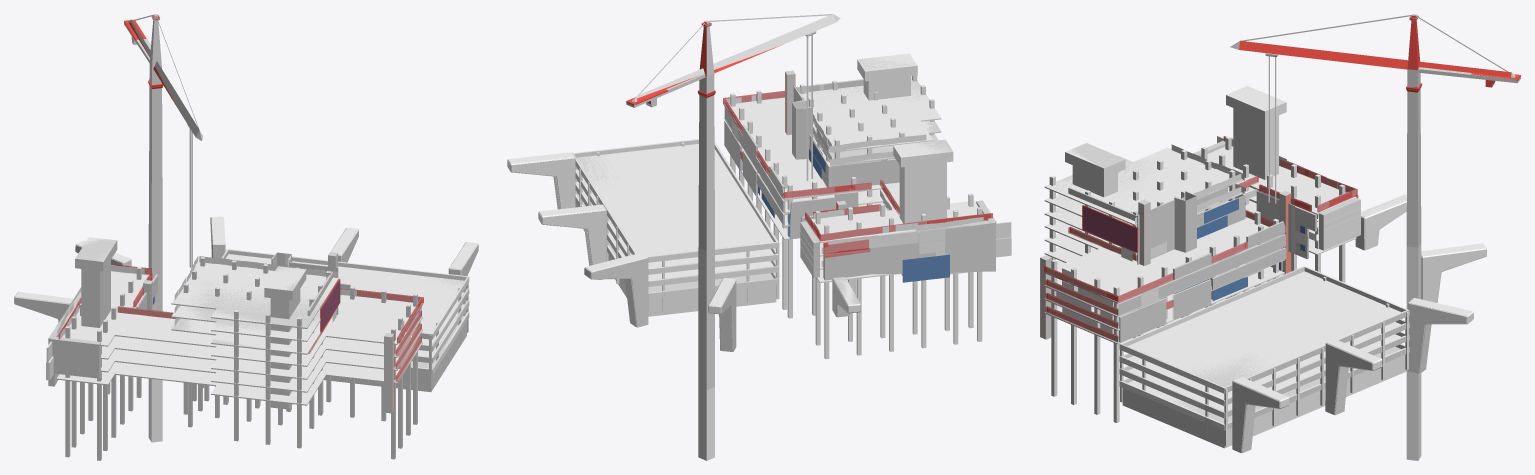
The model's file is city_constructionsite.dae.
3 views of the same model, side by side, from view 1: azimuth 30°, elevation 25°; view 2: azimuth 150°, elevation 25°; view 3: azimuth 270°, elevation 25° (orthographic). The views are drawn at different scales.
Parts seen in each view (by area): view 1: city_constructionsite_L841, Colmesh_city_constructionsite-1, city_constructionsite_L420; view 2: city_constructionsite_L841, Colmesh_city_constructionsite-1, city_constructionsite_L420, city_constructionsite_L200; view 3: city_constructionsite_L841, Colmesh_city_constructionsite-1, city_constructionsite_L420, city_constructionsite_L200.
Part boxes in pixels (x1,y1,x2,y2): city_constructionsite_L841: (15, 14, 477, 442); Colmesh_city_constructionsite-1: (14, 14, 478, 460); city_constructionsite_L420: (32, 81, 466, 420); city_constructionsite_L841: (507, 14, 1011, 460); Colmesh_city_constructionsite-1: (572, 14, 996, 389); city_constructionsite_L420: (507, 24, 1011, 358); city_constructionsite_L200: (637, 91, 949, 460); city_constructionsite_L841: (1040, 15, 1520, 460); Colmesh_city_constructionsite-1: (1040, 14, 1520, 452); city_constructionsite_L420: (1053, 18, 1492, 453); city_constructionsite_L200: (1083, 67, 1465, 460).
Bounding box in the file's own units: 131 × 113 × 115.
